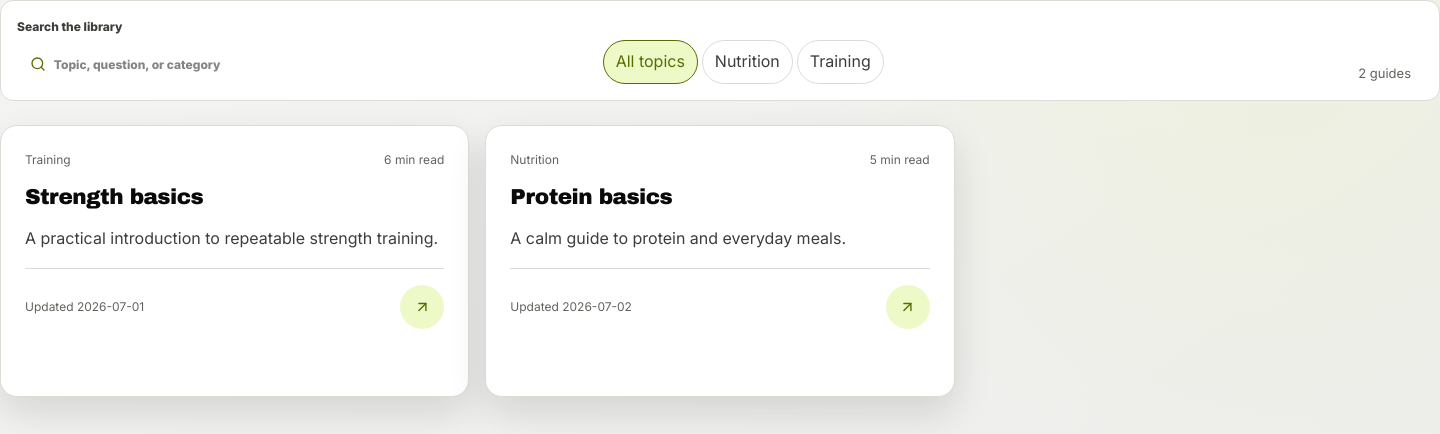
Test: KnowledgeLibrary › searches, filters categories, clears, and shows an empty result
The image size is (1440, 434).
Step 1. Type "protein" into the search field → (304, 64), box x1=17 y1=44 x2=591 y2=84
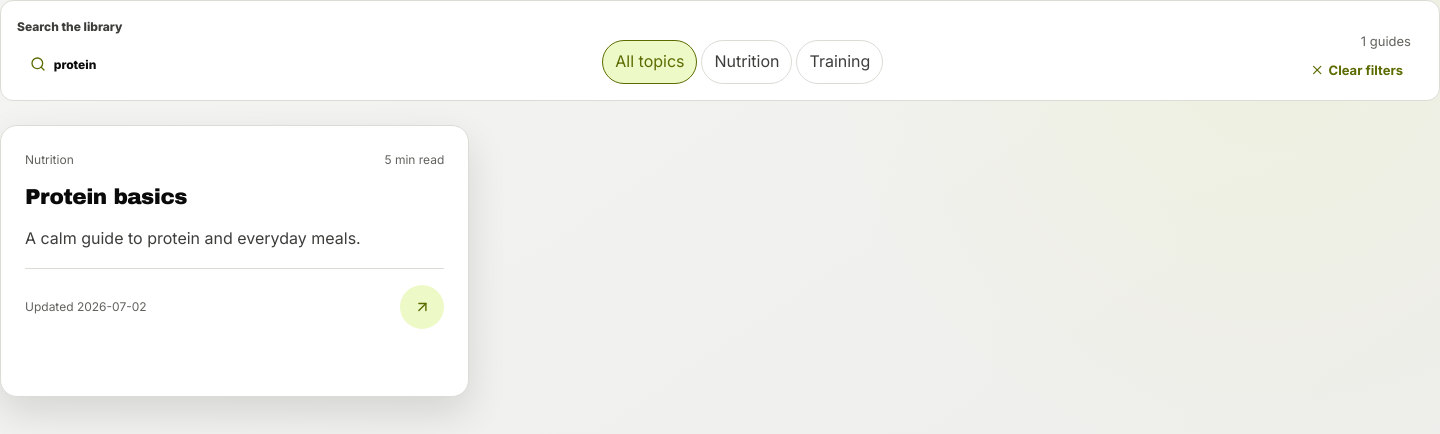
expect the link "Protein basics" is shown: met, box x1=25 y1=185 x2=187 y2=209
expect the link "Strength basics" is gone: met
Step 2. Click the button "Training" → (840, 62), box x1=796 y1=40 x2=883 y2=84
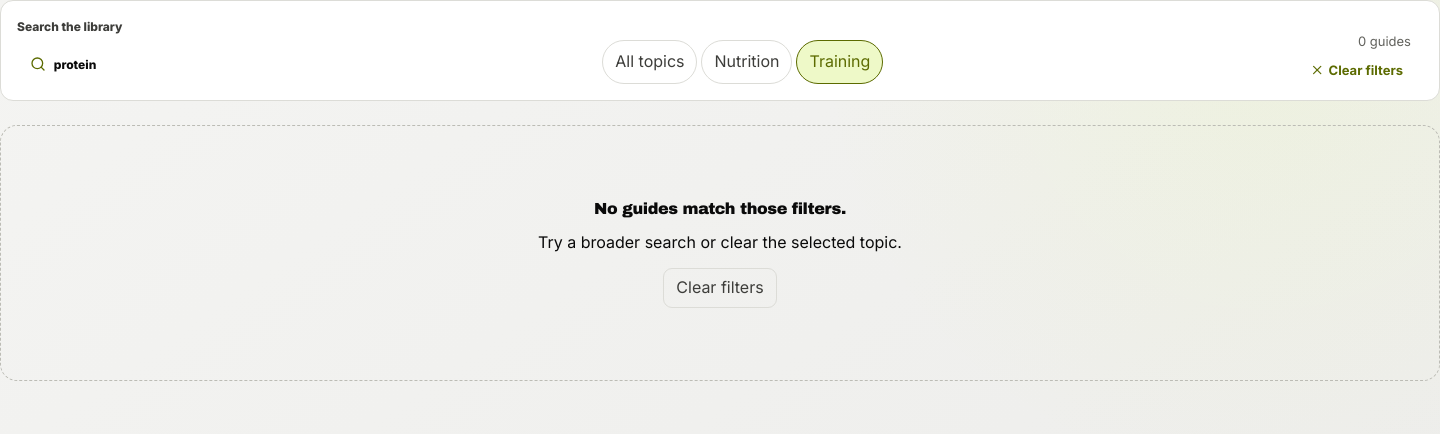
expect the heading "No guides match those filters." is shown: met, box x1=594 y1=199 x2=846 y2=218
Step 3. Click the 1st button "Clear filters" → (1357, 70), box x1=1302 y1=56 x2=1411 y2=84
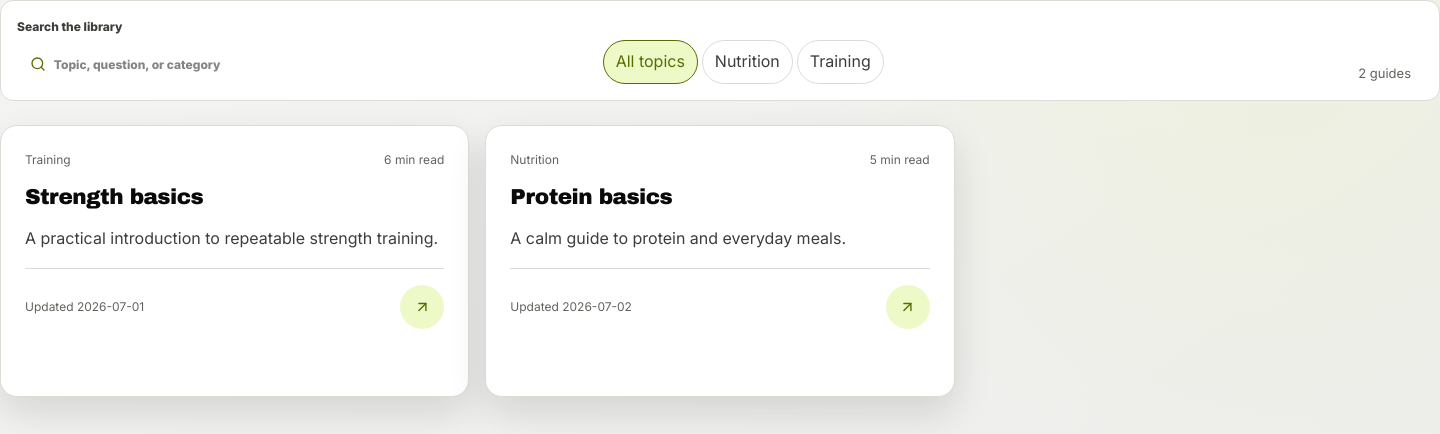
expect the link "Strength basics" is shown: met, box x1=25 y1=185 x2=203 y2=209
